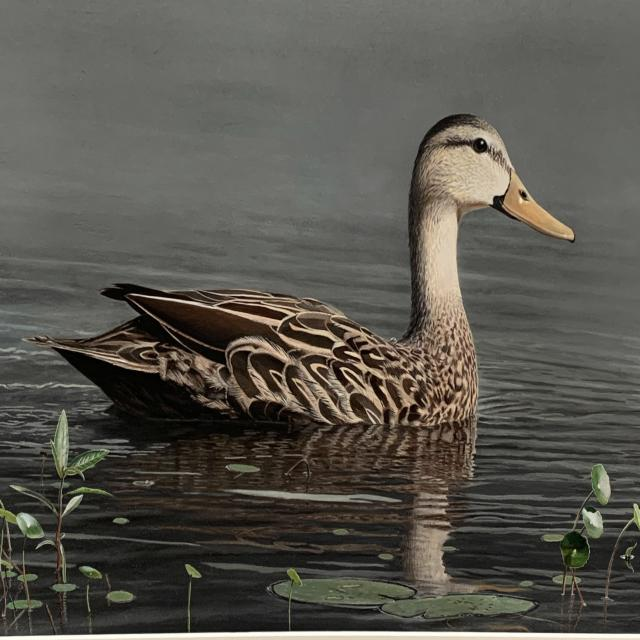duck: (29, 114, 575, 446)
